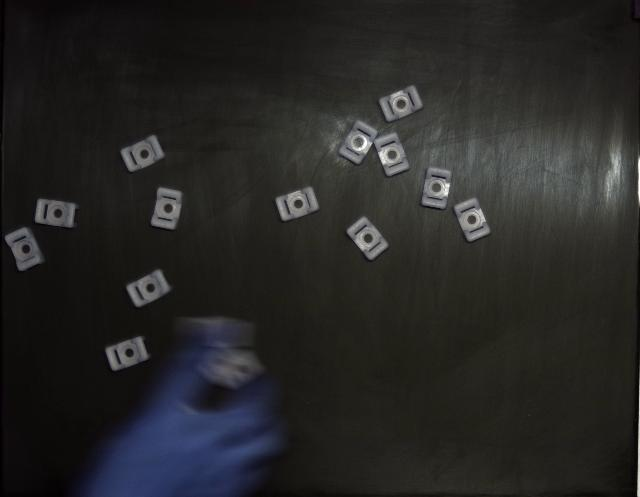first_side: (346, 216, 389, 261), (339, 120, 378, 165), (5, 228, 45, 271), (126, 270, 171, 308), (120, 135, 165, 172), (379, 85, 422, 122), (374, 132, 410, 176), (454, 198, 490, 242), (275, 186, 320, 221), (105, 336, 150, 371), (35, 199, 79, 229), (421, 168, 452, 210), (151, 188, 182, 230)
